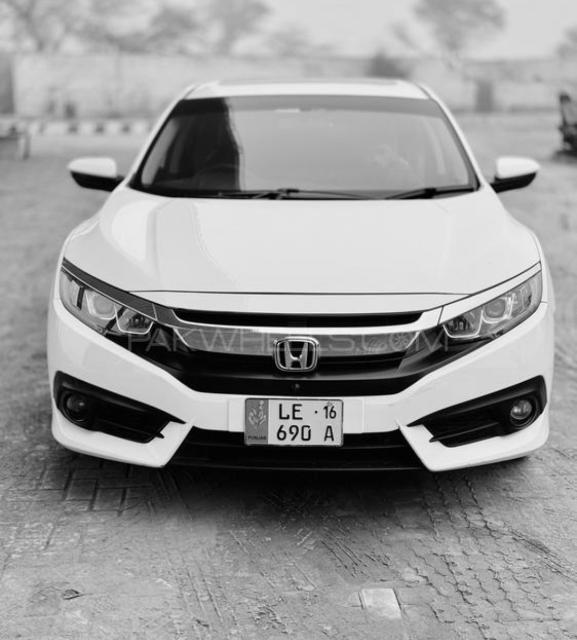Number: (274, 402, 320, 443)
